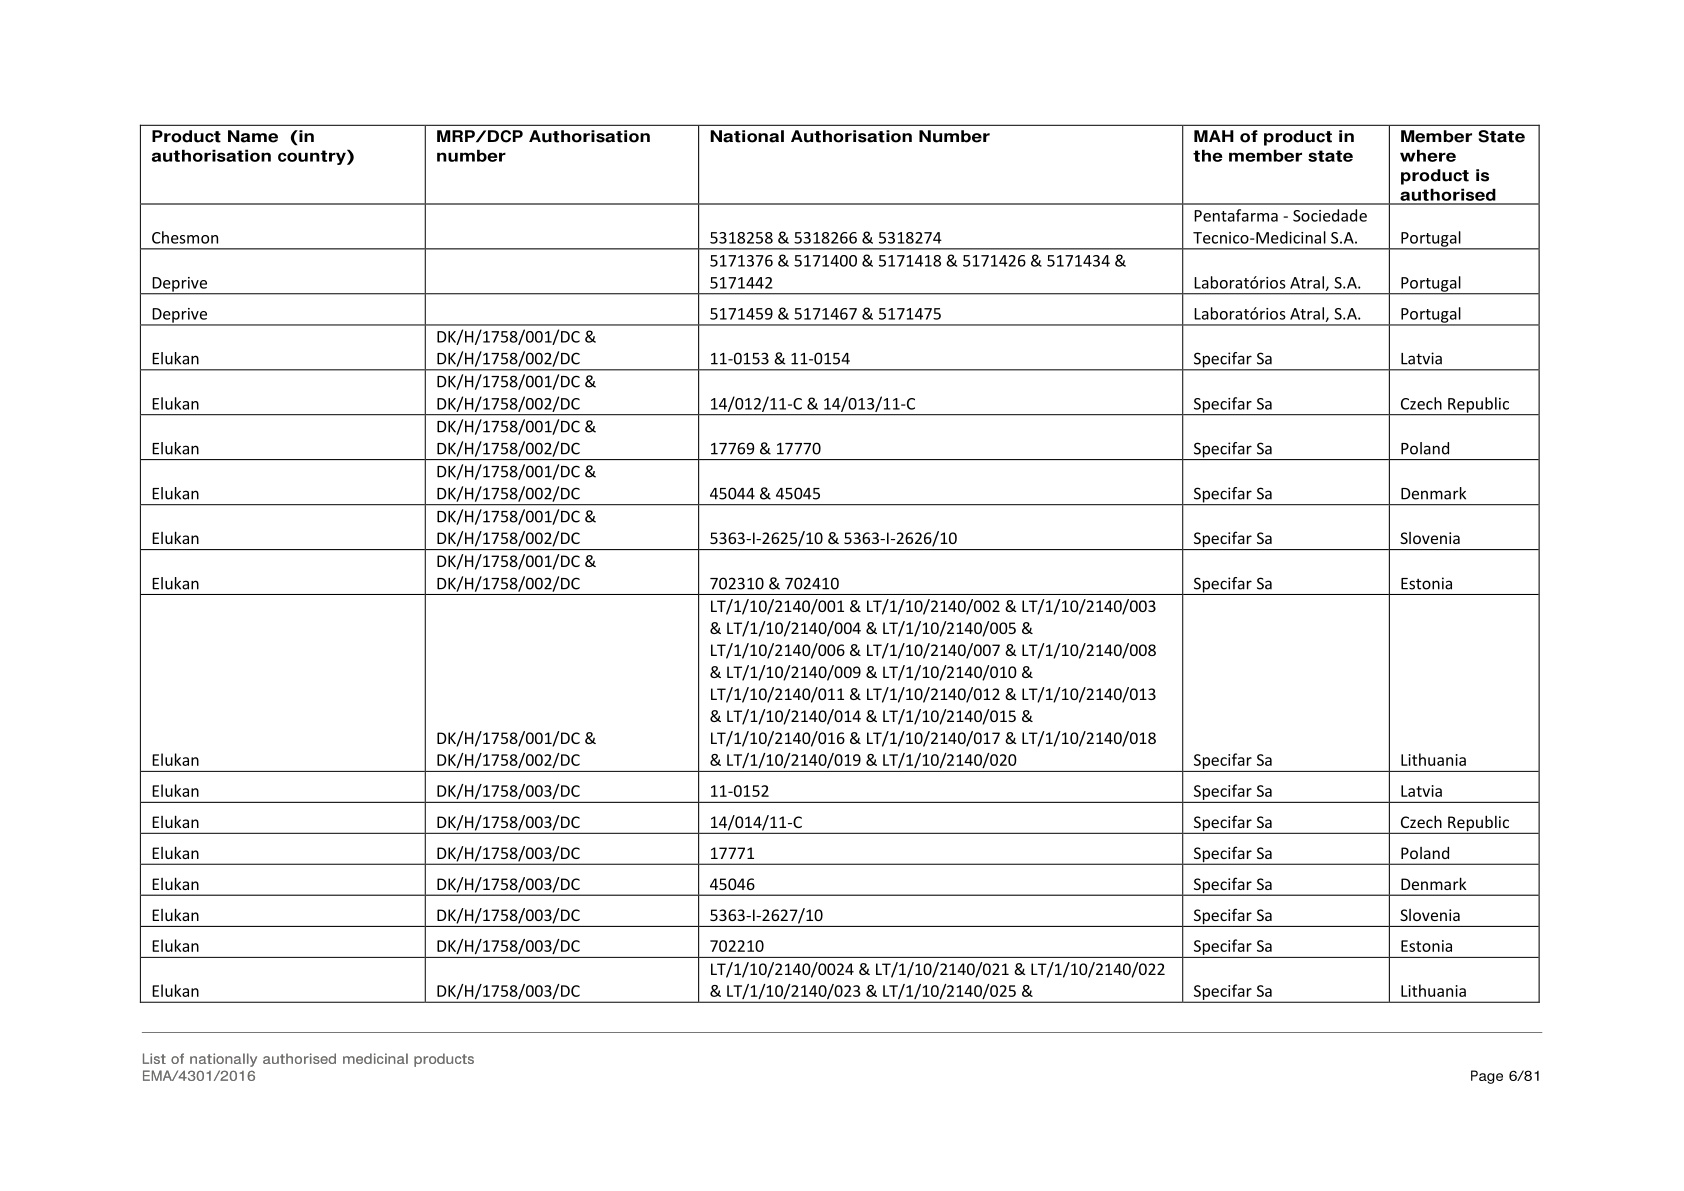full_lined: (139, 122, 1540, 1003)
